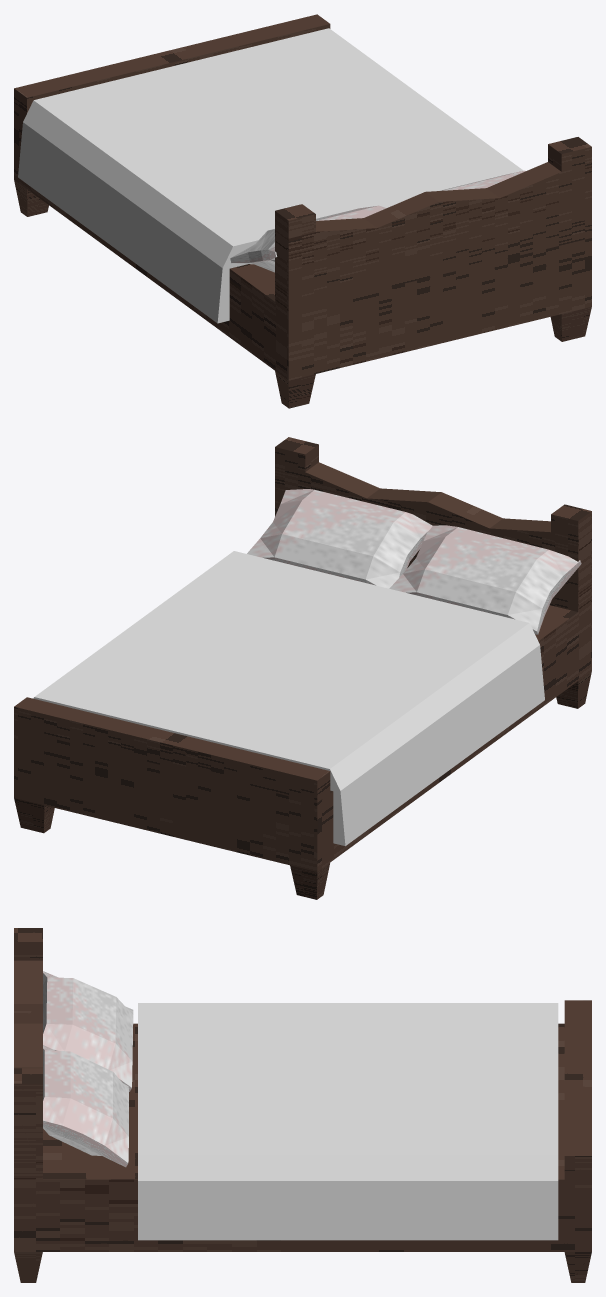
File: Beddddd.glb
3 renders of one model, top to bottom at view 1: azimuth 30°, elevation 25°; view 2: azimuth 150°, elevation 25°; view 3: azimuth 270°, elevation 25°, orthographic. The views are drawn at different scales.
Visible parts, largest first — view 1: Bed; view 2: Bed; view 3: Bed.
Part boxes in pixels (x1,y1,x2,y2): Bed: (14, 14, 591, 408); Bed: (14, 437, 591, 899); Bed: (14, 928, 591, 1282).
Bounding box in the file's own units: 7.35 × 4.1 × 10.67.
Materials: 3 (2 with a texture image).
